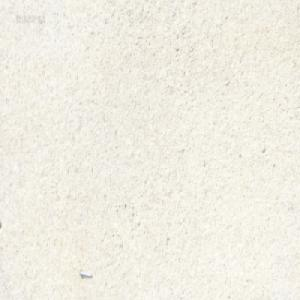Nail: (77, 269, 92, 278)
